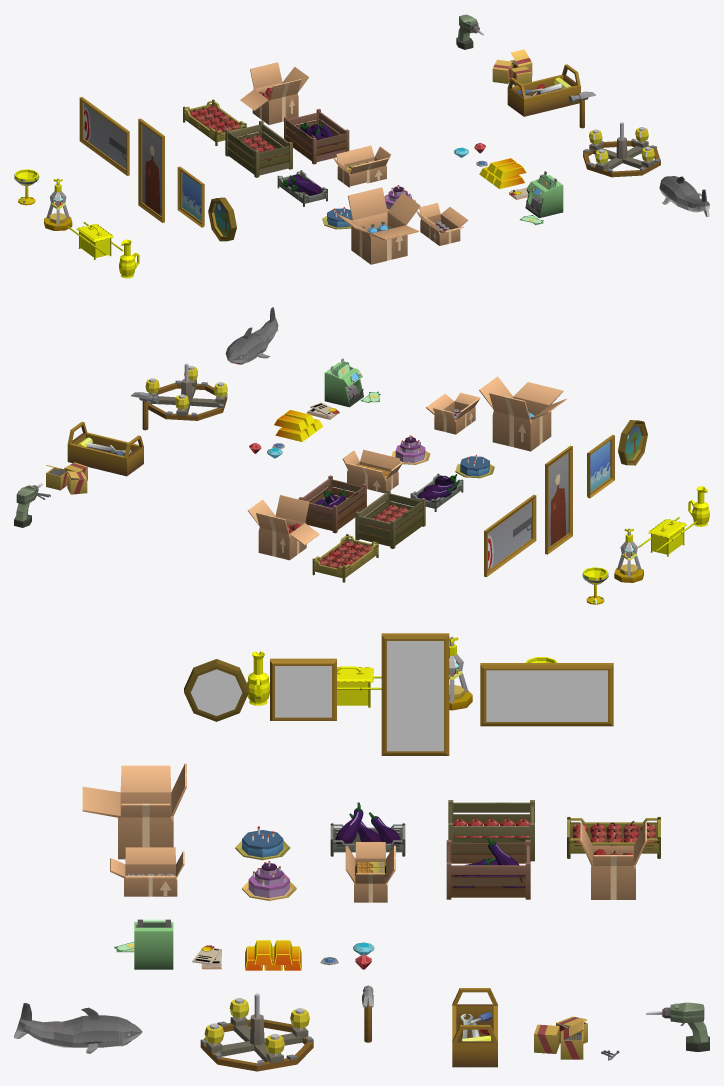
Rendered from props_gotov.fbx.
The picture shows the model from 3 angles, top to bottom: view 1: azimuth 30°, elevation 25°; view 2: azimuth 150°, elevation 25°; view 3: azimuth 270°, elevation 25°; orthographic projection. The views are drawn at different scales.
Parts seen in each view (by area): view 1: water, apple_In_box, apple_wood, Cylinder.006, vegetables_wood, painting_2.001, painting_3.001, Cube.003, chocolate, money, cocacola, apple_plastic (+12 smaller); view 2: water, apple_In_box, apple_wood, Cube.003, painting_2.001, painting_3.001, vegetables_wood, Cylinder.006, chocolate, apple_plastic, money, cocacola (+13 smaller); view 3: painting_3.001, painting_2.001, water, Cylinder.006, vegetables_wood, painting_1.001, apple_wood, Cylinder.007, Cube.003, painting_4.001, apple_In_box, cocacola (+12 smaller).
Boxes of the visible parts, bbox=[...] form: water: bbox=[336, 187, 420, 264]; apple_In_box: bbox=[240, 62, 308, 124]; apple_wood: bbox=[225, 120, 292, 177]; Cylinder.006: bbox=[583, 122, 660, 177]; vegetables_wood: bbox=[284, 108, 349, 164]; painting_2.001: bbox=[138, 118, 164, 222]; painting_3.001: bbox=[79, 97, 129, 175]; Cube.003: bbox=[507, 64, 580, 116]; chocolate: bbox=[333, 145, 391, 187]; money: bbox=[520, 171, 563, 225]; cocacola: bbox=[416, 203, 468, 245]; apple_plastic: bbox=[183, 99, 246, 145]; water: bbox=[479, 376, 566, 451]; apple_In_box: bbox=[247, 495, 319, 560]; apple_wood: bbox=[355, 489, 425, 548]; Cube.003: bbox=[67, 421, 143, 476]; painting_2.001: bbox=[545, 445, 572, 554]; painting_3.001: bbox=[484, 494, 536, 577]; vegetables_wood: bbox=[298, 475, 366, 533]; Cylinder.006: bbox=[145, 363, 227, 420]; chocolate: bbox=[342, 449, 402, 493]; apple_plastic: bbox=[312, 534, 378, 582]; money: bbox=[324, 358, 380, 407]; cocacola: bbox=[426, 392, 480, 434]; painting_3.001: bbox=[480, 663, 613, 726]; painting_2.001: bbox=[381, 633, 449, 755]; water: bbox=[82, 763, 186, 859]; Cylinder.006: bbox=[200, 993, 313, 1071]; vegetables_wood: bbox=[446, 837, 530, 899]; painting_1.001: bbox=[270, 658, 336, 720]; apple_wood: bbox=[448, 800, 534, 861]; Cylinder.007: bbox=[14, 1003, 142, 1053]; Cube.003: bbox=[452, 988, 497, 1067]; painting_4.001: bbox=[184, 659, 249, 721]; apple_In_box: bbox=[580, 822, 646, 899]; cocacola: bbox=[110, 847, 184, 896].
Bounding box in the file's own units: 1216 × 201 × 965.
